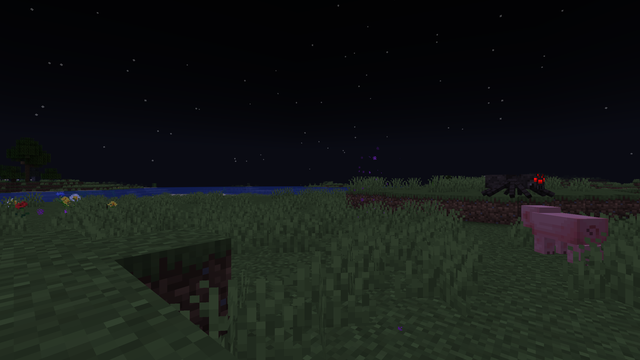araignees: (491, 171, 543, 199)
cochons: (538, 210, 601, 266)
